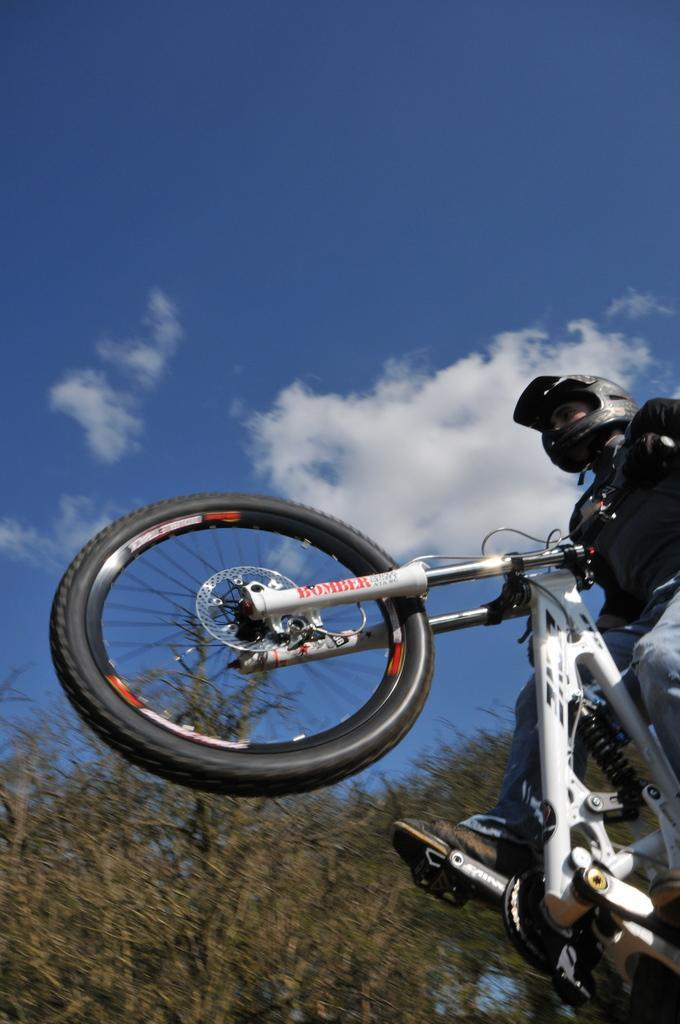helmet: (512, 373, 641, 474)
